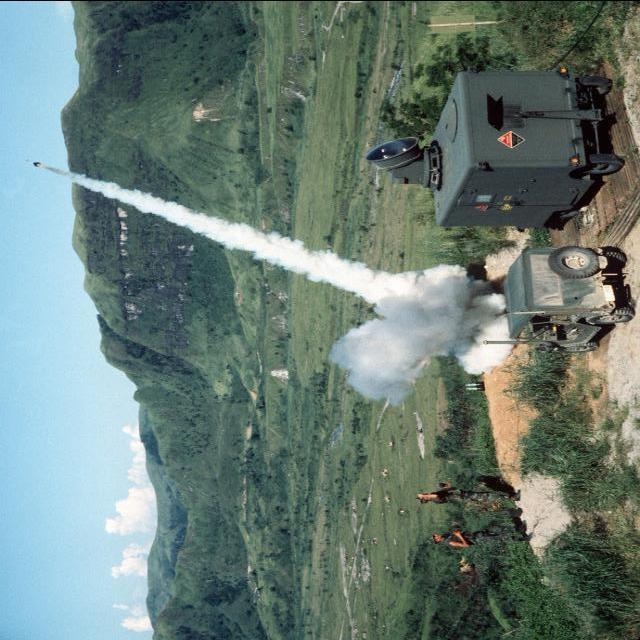missile: (22, 158, 42, 168)
